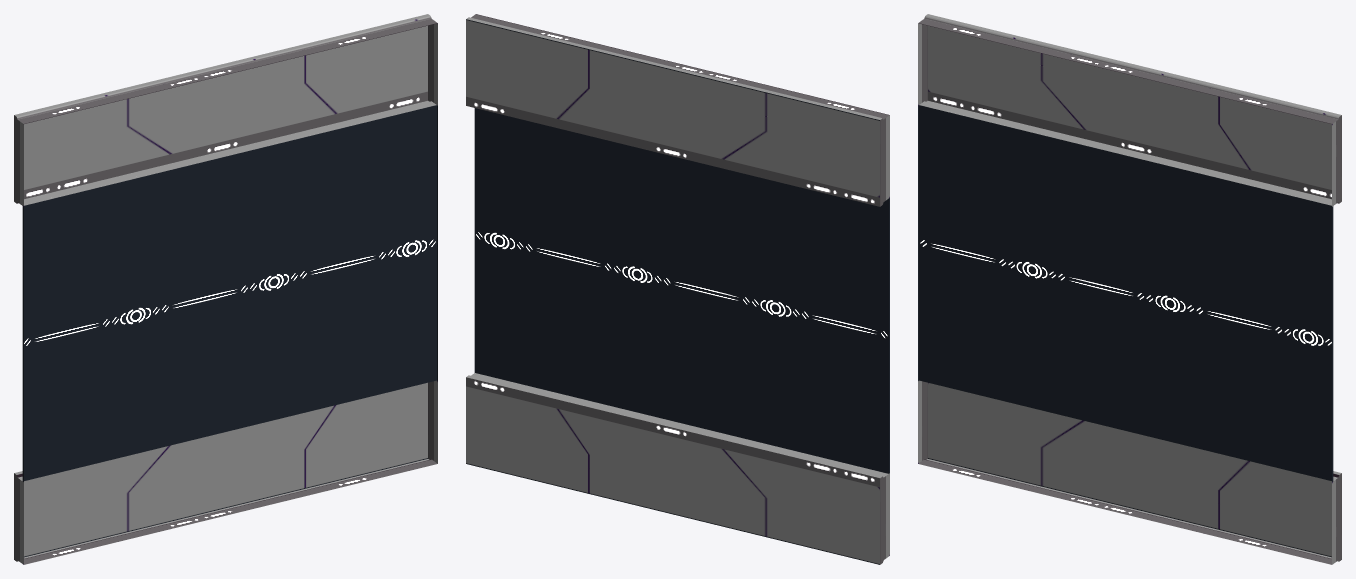
File: SM_S_Road1.fbx
The picture shows the model from 3 angles, left to right: view 1: azimuth 30°, elevation 25°; view 2: azimuth 150°, elevation 25°; view 3: azimuth 330°, elevation 25°; orthographic projection.
Parts seen in each view (by area): view 1: SM_S_Road1; view 2: SM_S_Road1; view 3: SM_S_Road1.
Part boxes in pixels (x1=…): SM_S_Road1: x1=14, y1=14, x2=437, y2=564; SM_S_Road1: x1=466, y1=14, x2=889, y2=564; SM_S_Road1: x1=918, y1=14, x2=1341, y2=564.
Bounding box in the file's own units: 2877 × 2953 × 119.
